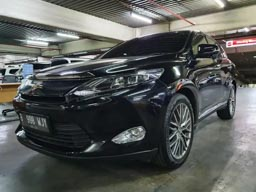plat: (17, 113, 48, 135)
